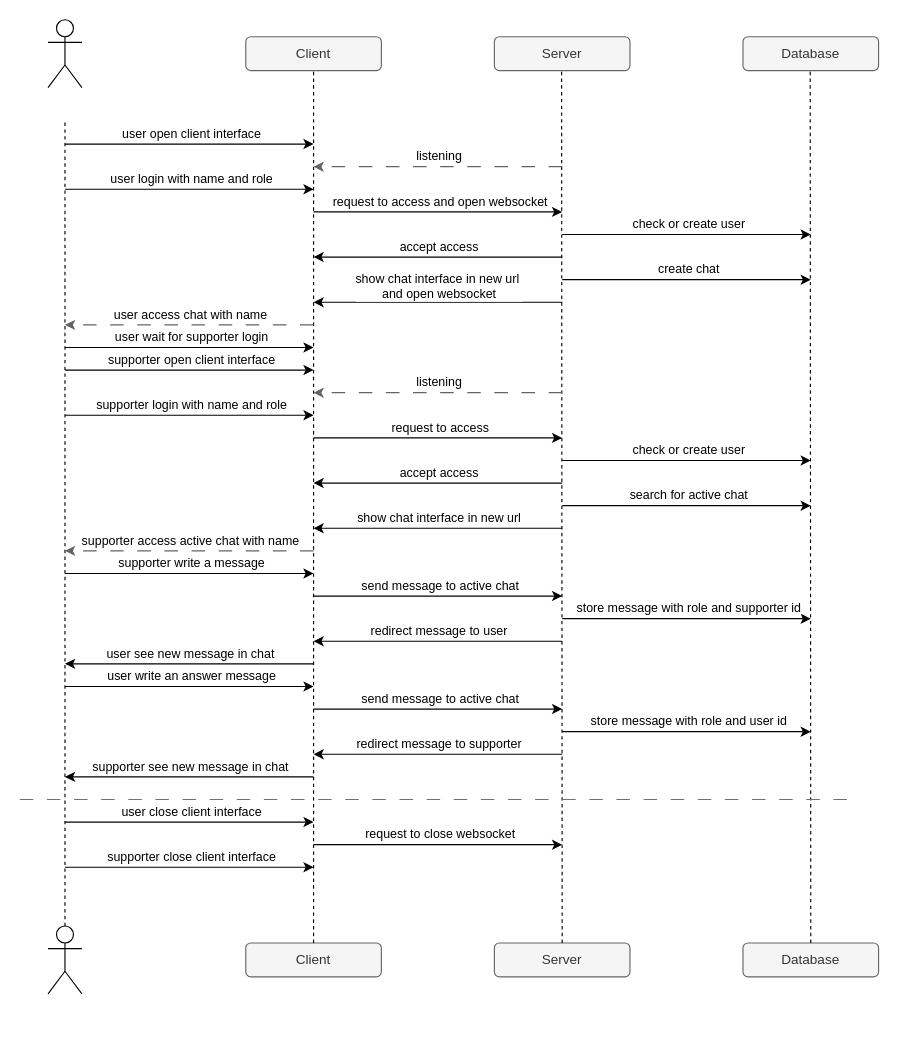
This 898x1037 diagram has some shape labels left out. The shapes that lost their labels are listed below. From the top down, each one's centre as x and y in pixels, then its label:
At (64,53): "User".
At (64,959): "Supporter".
